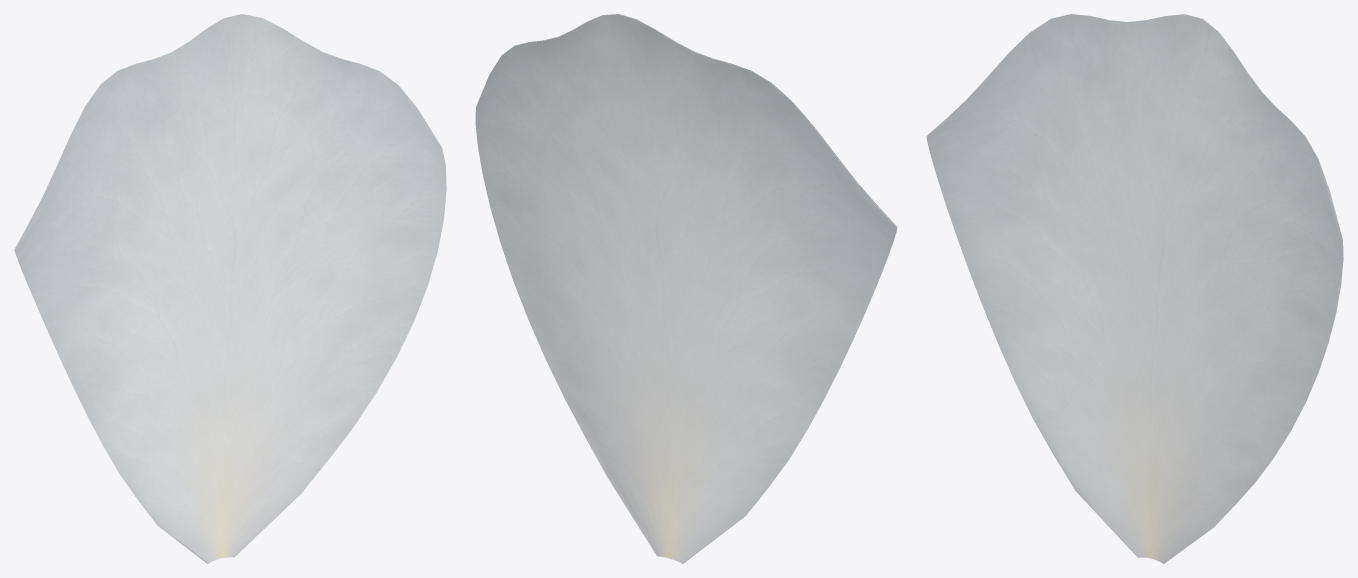
The model's file is outer_02.glb.
3 renders of one model, left to right at view 1: azimuth 30°, elevation 25°; view 2: azimuth 150°, elevation 25°; view 3: azimuth 330°, elevation 25°, orthographic. The views are drawn at different scales.
Parts seen in each view (by area): view 1: outer_02; view 2: outer_02; view 3: outer_02.
Part boxes in pixels (<box>): outer_02: <box>14,14,446,563</box>; outer_02: <box>475,14,897,563</box>; outer_02: <box>926,14,1343,563</box>.
Bounding box in the file's own units: 0.0759 × 0.0916 × 0.0117.
Materials: 1 (1 with a texture image).
